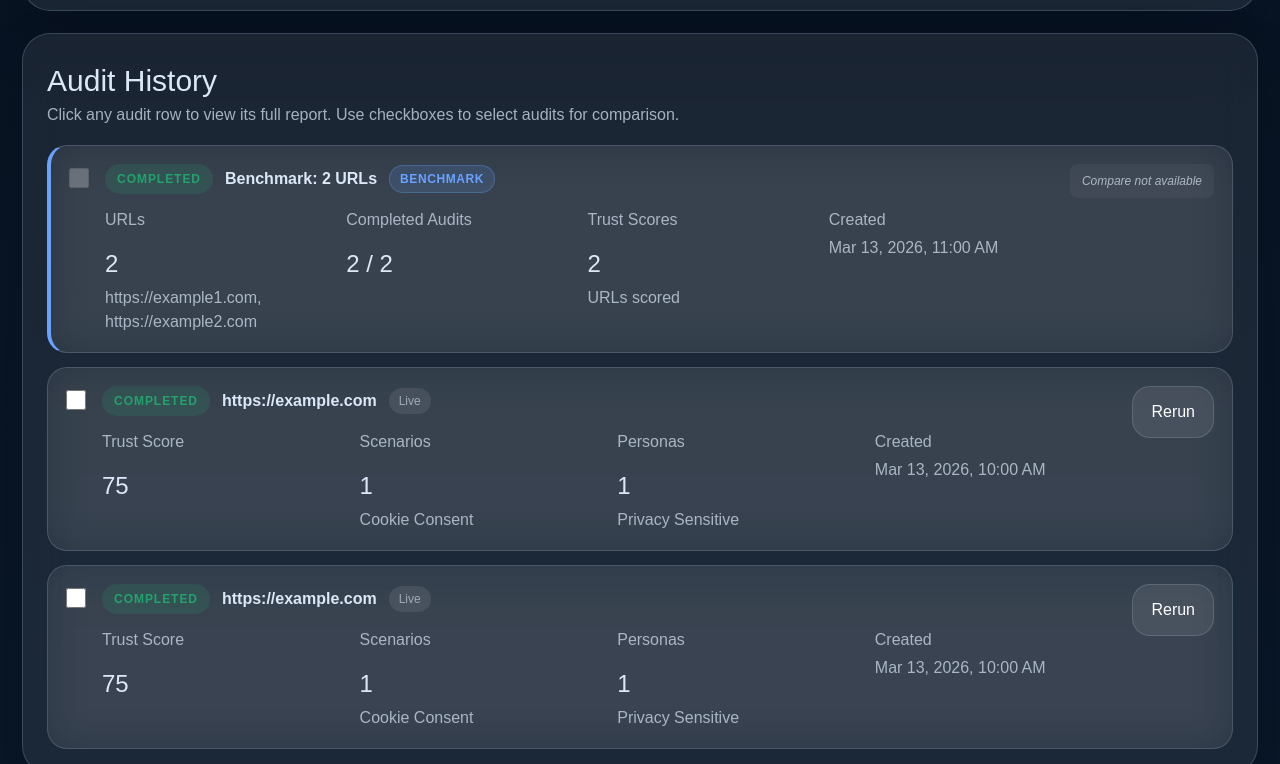
Test: HistoryPage › Benchmark Integration › excludes benchmarks from compare selection
(page scrolled)
Expected: the number of elements with test id "audit-row" is 2, [47,367,1233,551]; [47,565,1233,749]
Expected: the element with test id "benchmark-row" is shown, [47,145,1233,353]
# Select two audits
Step 1. Click the checkbox named "Select audit audit-1" → (76, 400), box [66,390,86,410]
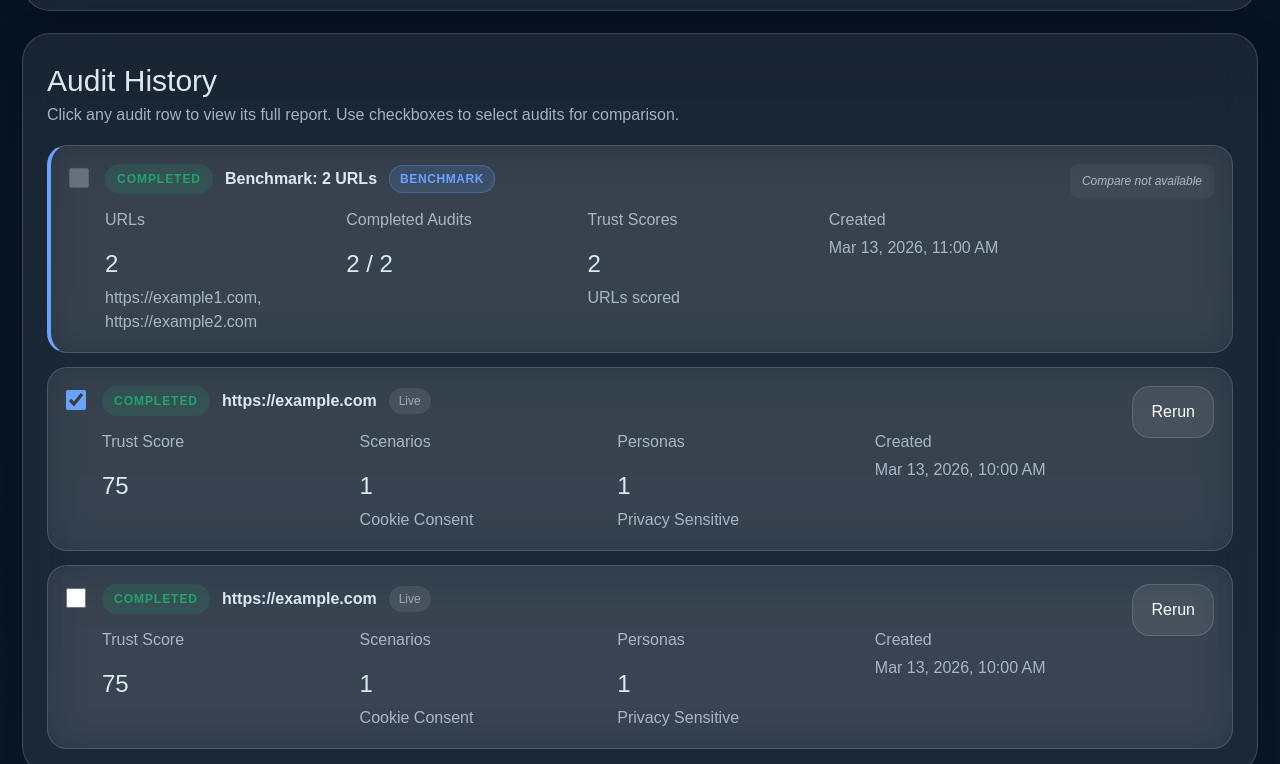
Step 2. Click the checkbox named "Select audit audit-2" → (76, 598), box [66,588,86,608]
(page scrolled)
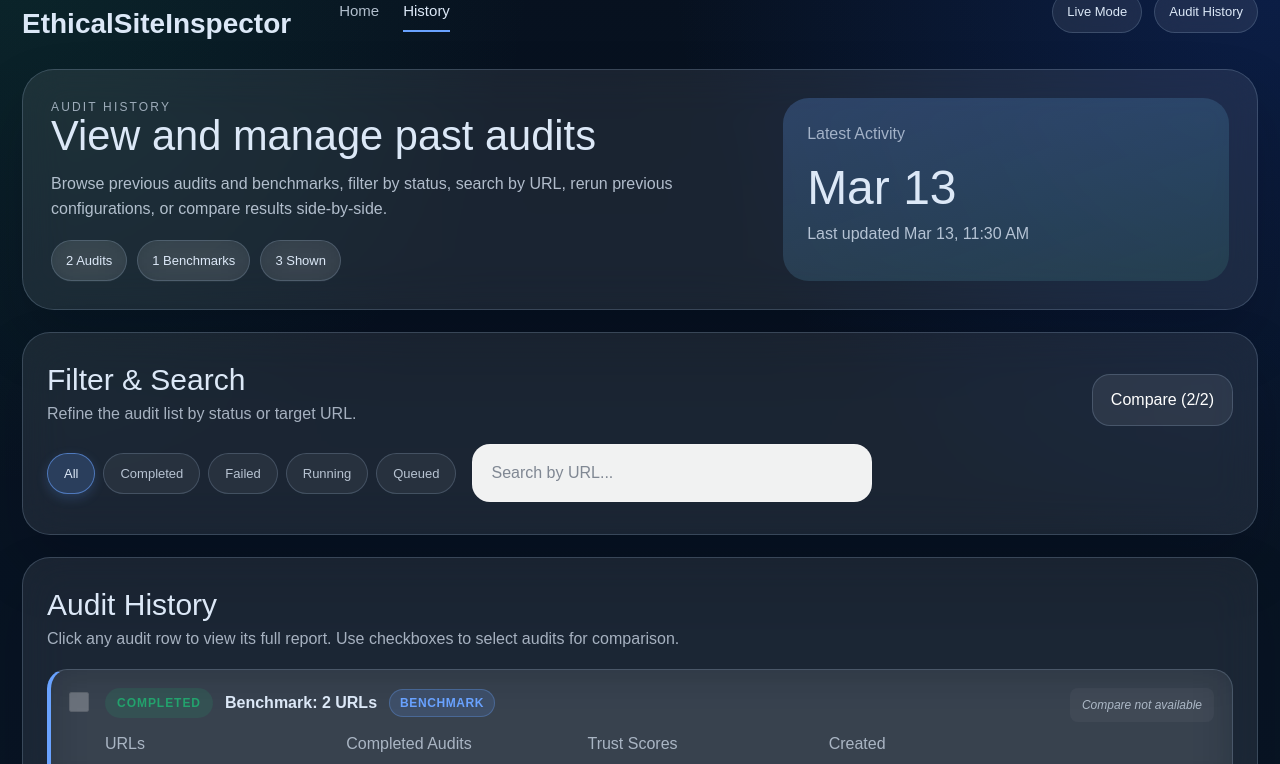
Expected: the button "Compare (2/2)" is enabled, [1092,374,1233,426]
Expected: the button "Compare (2/2)" is shown, [1092,374,1233,426]
